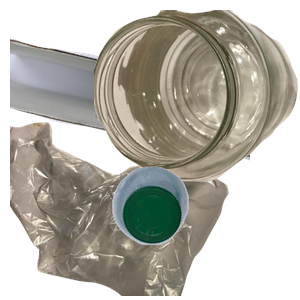cardboard: (10, 35, 250, 188)
glass: (94, 10, 300, 184)
plastic: (110, 164, 300, 300)
trash: (10, 120, 231, 300)
